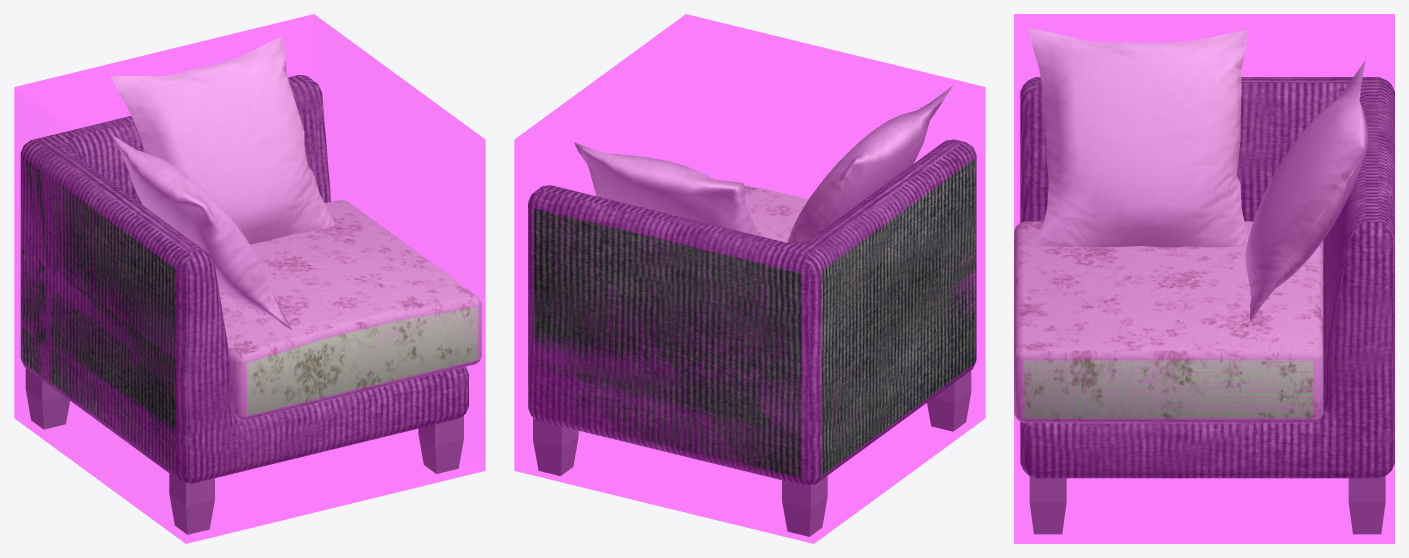
Rendered from cornersofa.fbx.
3 views of the same model, side by side, from view 1: azimuth 30°, elevation 25°; view 2: azimuth 150°, elevation 25°; view 3: azimuth 270°, elevation 25° (orthographic). The views are drawn at different scales.
Parts seen in each view (by area): view 1: boundingbox, cornersofa; view 2: boundingbox, cornersofa; view 3: boundingbox, cornersofa.
Boxes of the visible parts, left/top/right/bottom form: boundingbox: left=14, top=14, right=485, bottom=543; cornersofa: left=20, top=37, right=481, bottom=534; boundingbox: left=514, top=14, right=985, bottom=543; cornersofa: left=528, top=86, right=976, bottom=536; boundingbox: left=1014, top=14, right=1394, bottom=543; cornersofa: left=1014, top=28, right=1394, bottom=534.
Size of the model in its own units: 84 by 88.77 by 83.28.
Materials: 5 (3 with a texture image).
